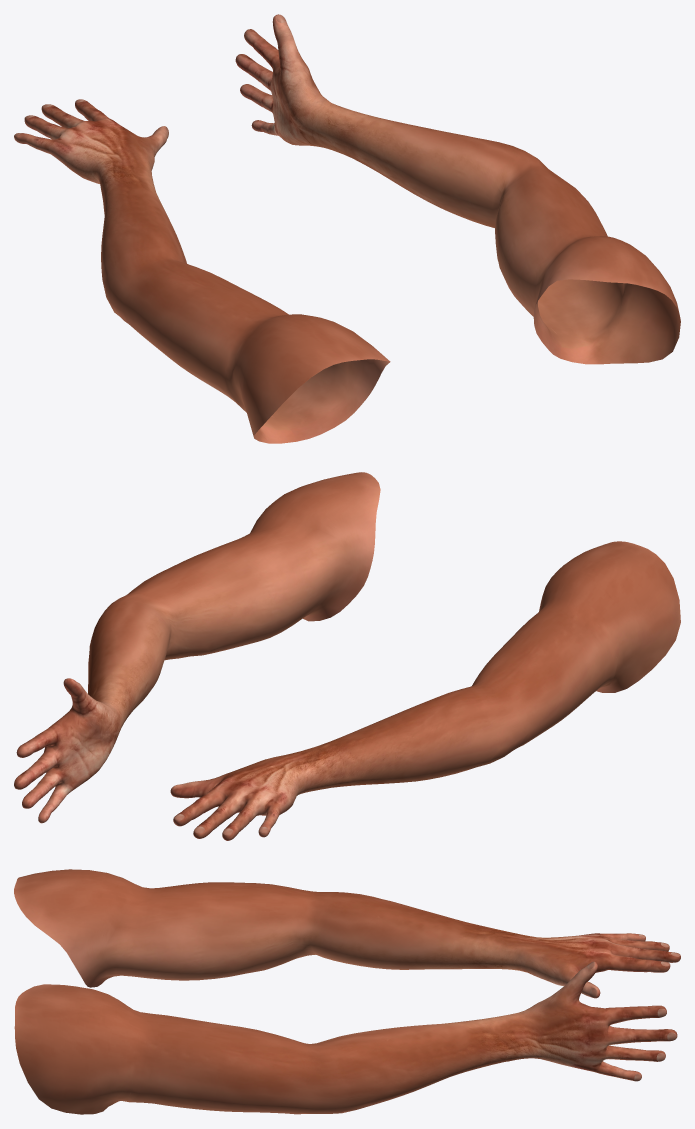
The model's file is fp_bare.glb.
3 views of the same model, one above another, from view 1: azimuth 30°, elevation 25°; view 2: azimuth 150°, elevation 25°; view 3: azimuth 270°, elevation 25° (orthographic). The views are drawn at different scales.
Parts seen in each view (by area): view 1: Arms_Obj.001; view 2: Arms_Obj.001; view 3: Arms_Obj.001.
Boxes of the visible parts, x1=… form: Arms_Obj.001: x1=14, y1=14, x2=680, y2=443; Arms_Obj.001: x1=14, y1=472, x2=680, y2=840; Arms_Obj.001: x1=14, y1=869, x2=680, y2=1114.
Bounding box in the file's own units: 2.53 × 0.8366 × 3.76.
1 material, 1 textured.
